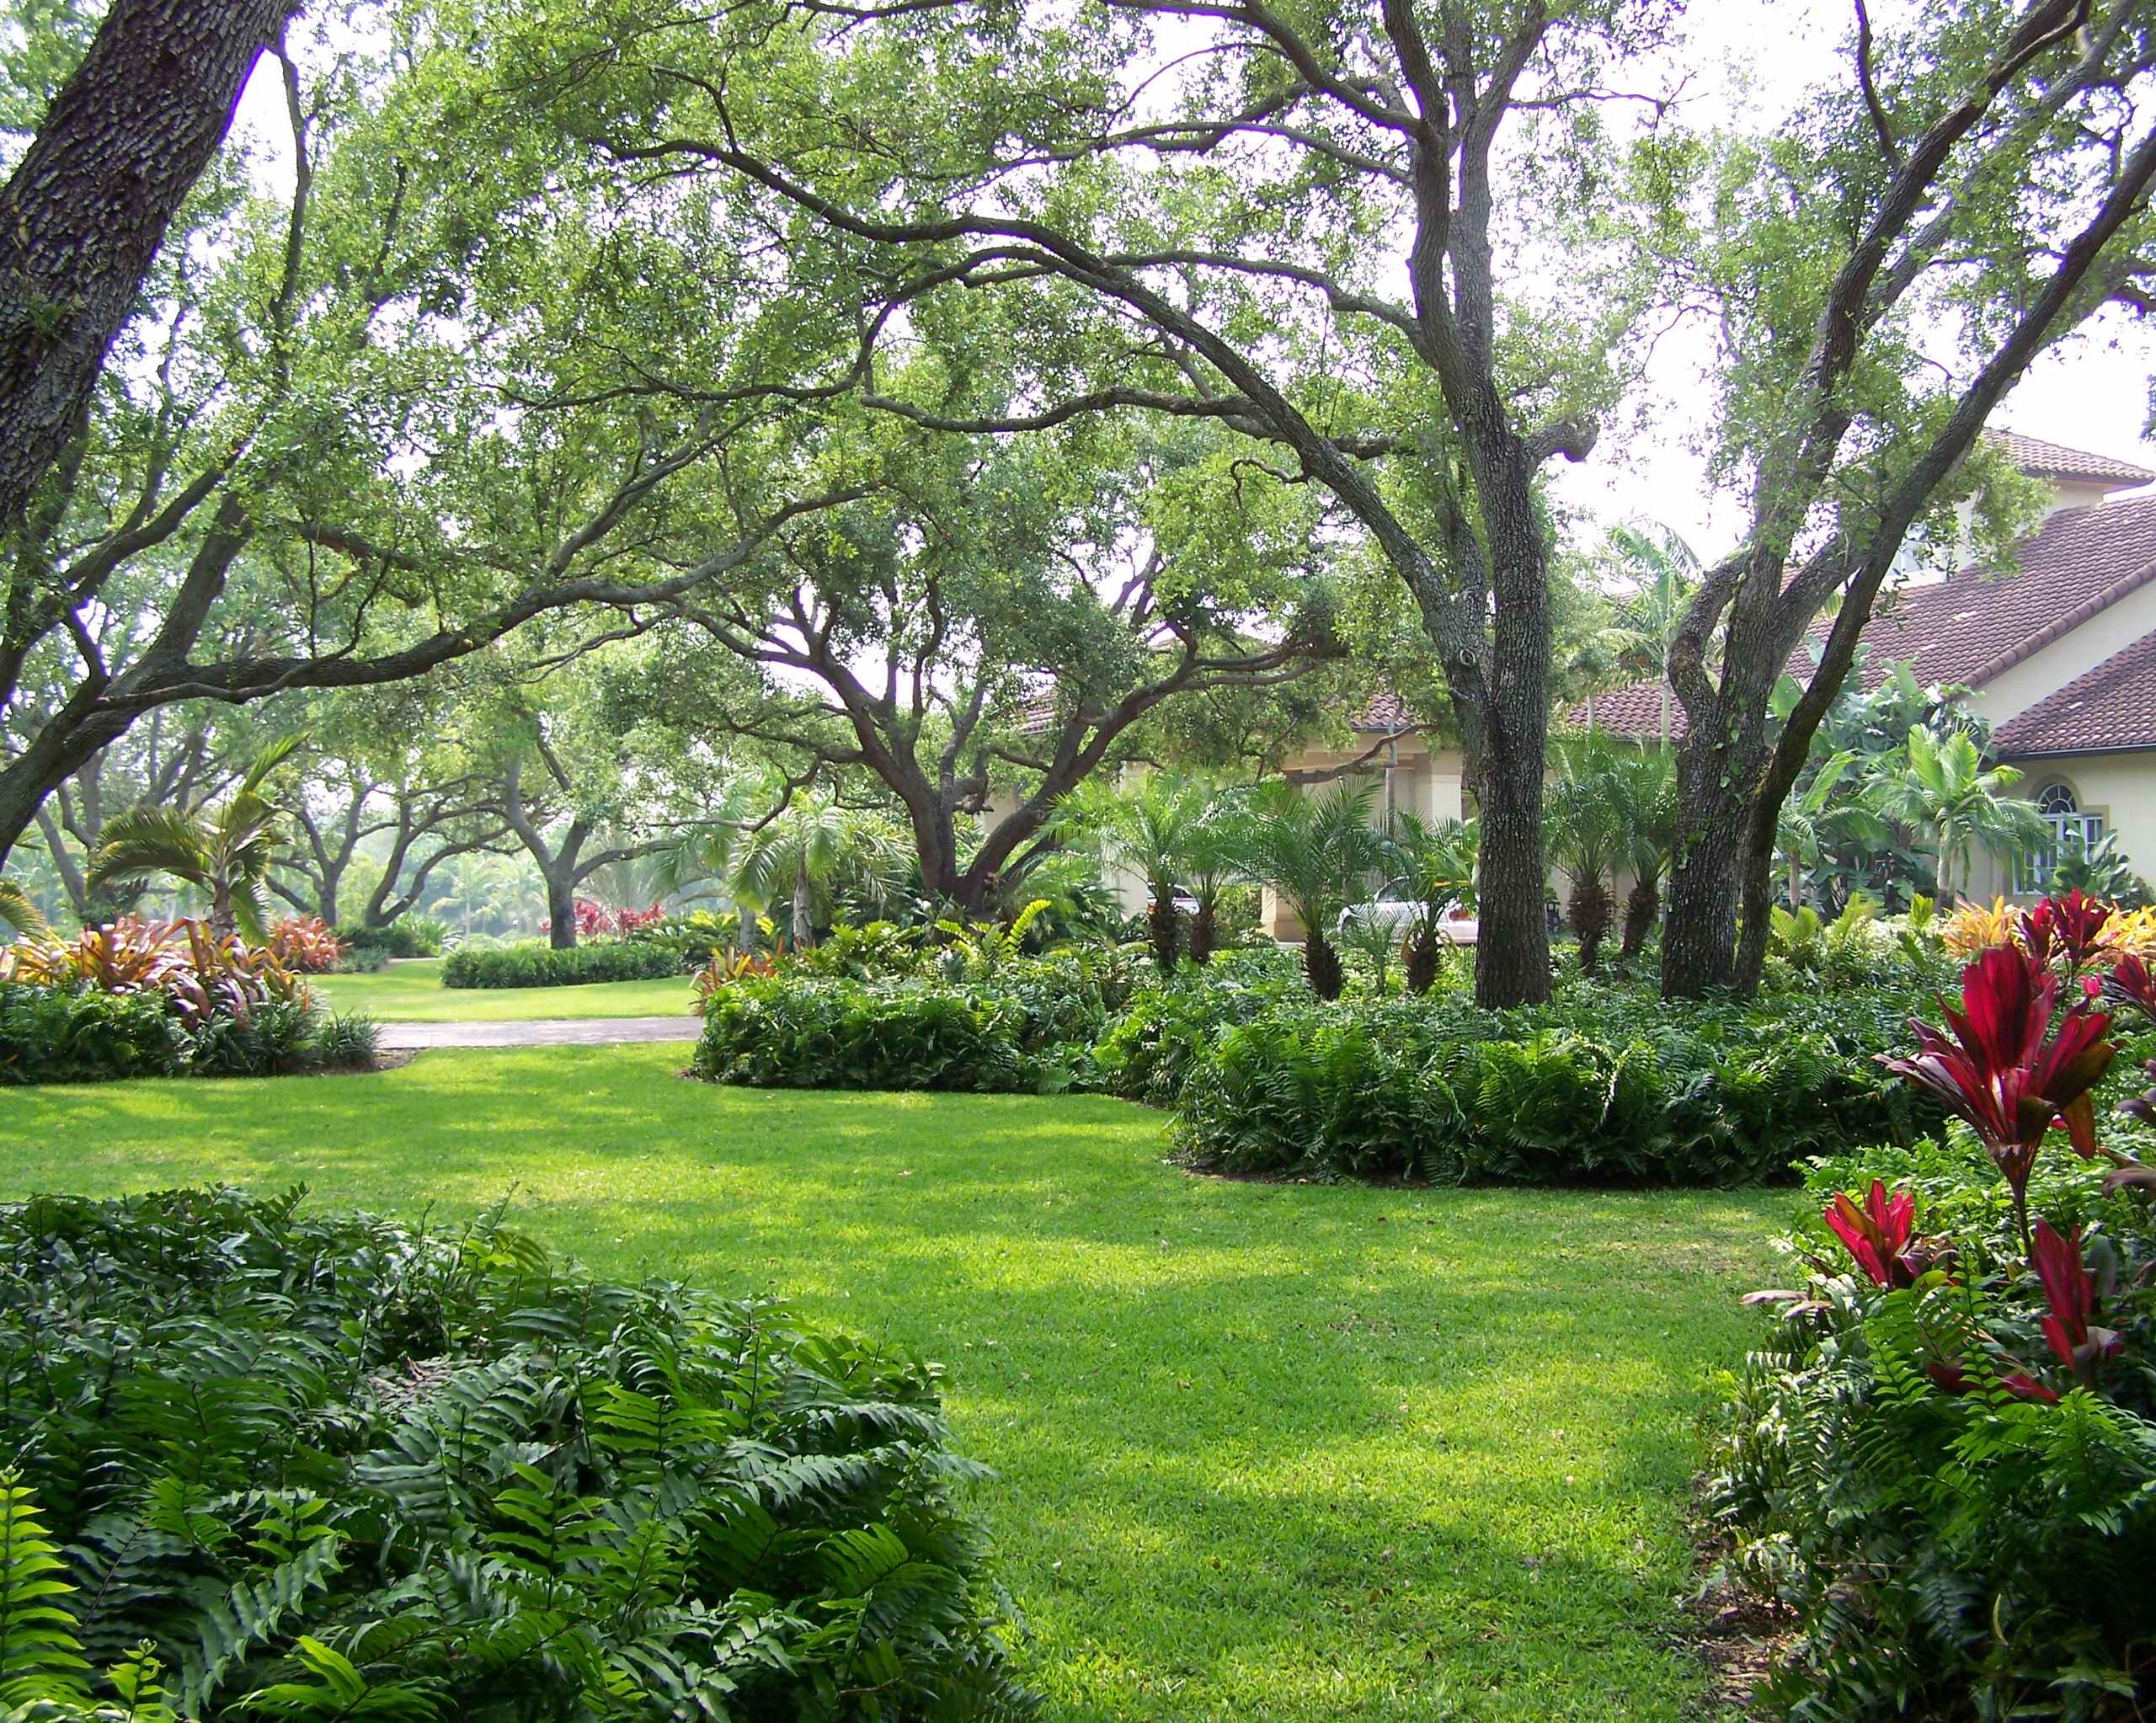bush: (1111, 981, 2033, 1162), (675, 972, 1133, 1099)
tree: (452, 0, 2154, 974), (438, 265, 1482, 920)
